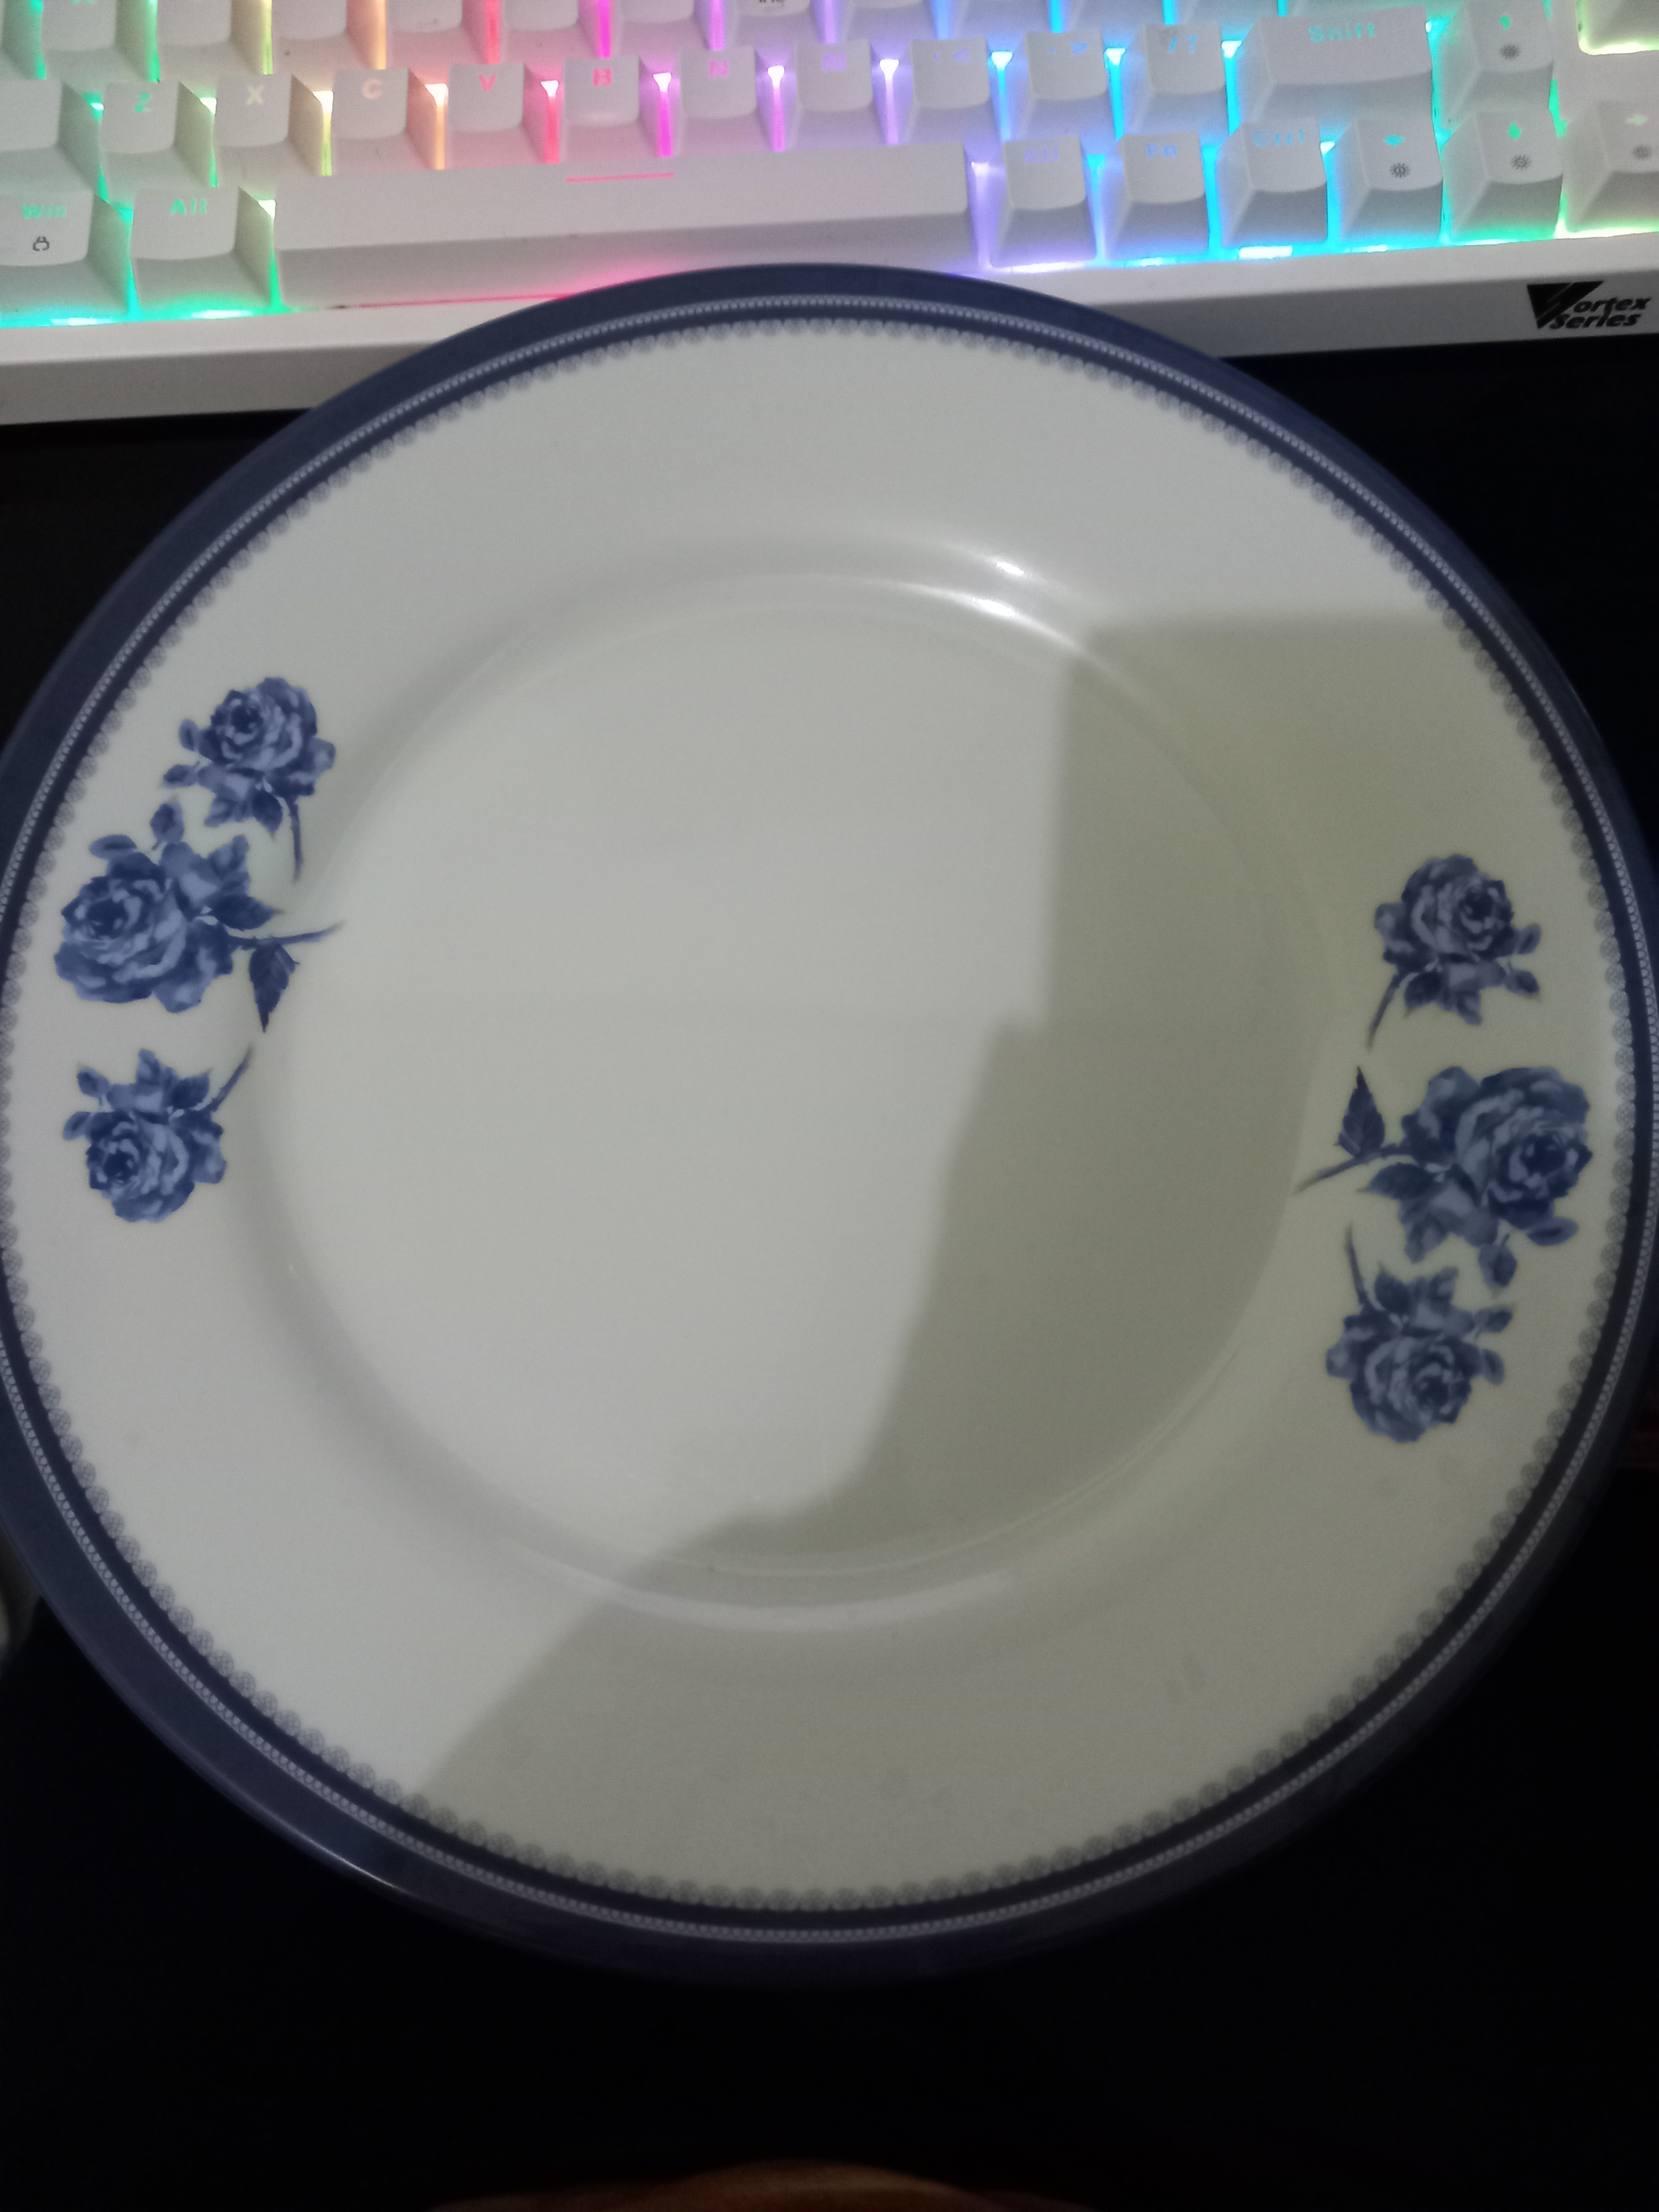piring: (16, 261, 1659, 1933)
